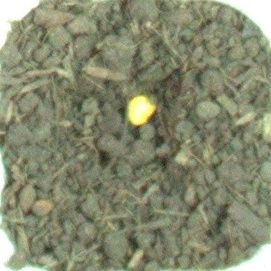chilli seed: (125, 94, 157, 128)
